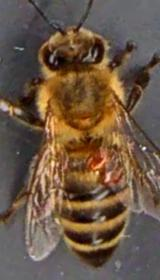varroa_mite: (82, 144, 115, 171), (100, 162, 126, 188)
